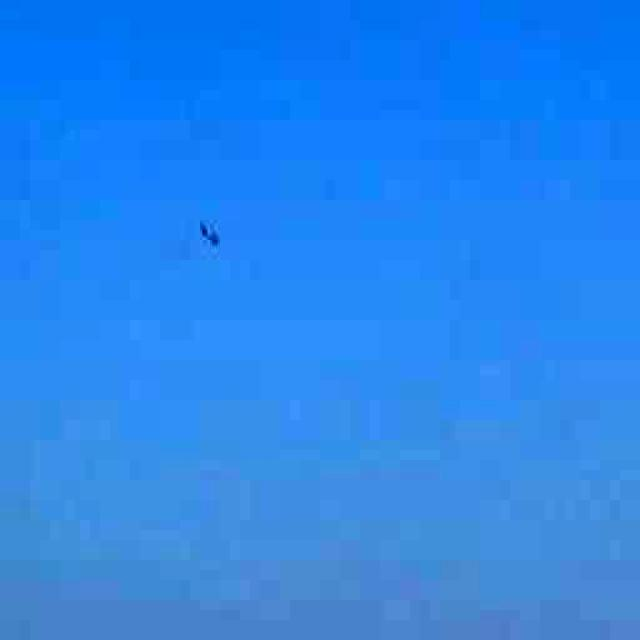bird: (175, 209, 238, 261)
